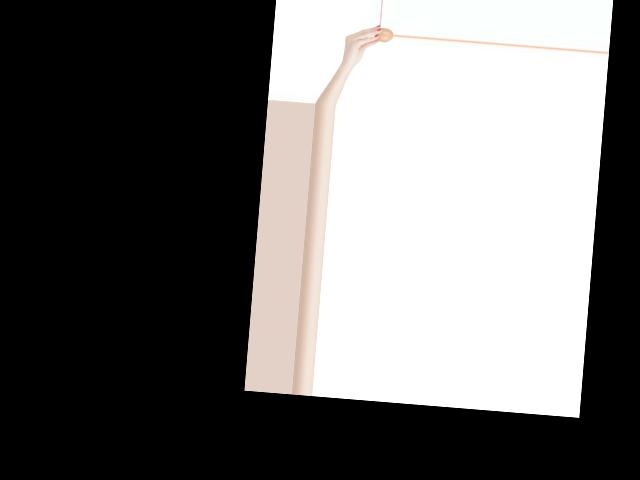egg: (374, 27, 393, 43)
